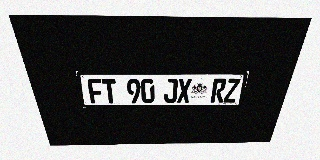0: (141, 79, 154, 103)
9: (126, 79, 141, 103)
F: (87, 79, 104, 103)
J: (164, 79, 178, 103)
R: (210, 78, 227, 103)
T: (101, 79, 118, 103)
X: (177, 78, 192, 103)
Z: (223, 78, 241, 102)
